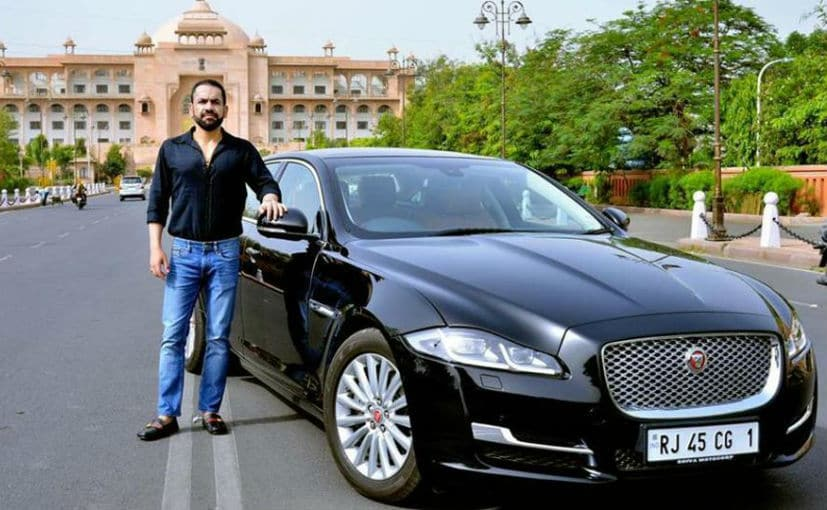number_plate: (642, 420, 766, 460)
